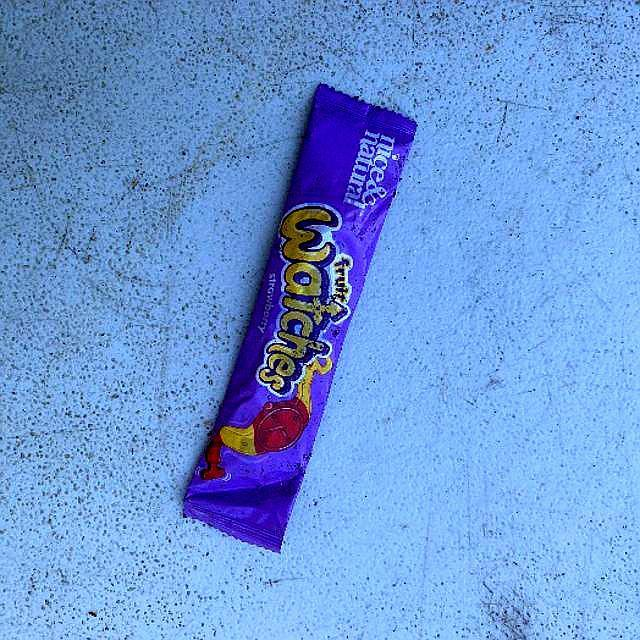Non-biodegradable: (180, 81, 420, 555)
